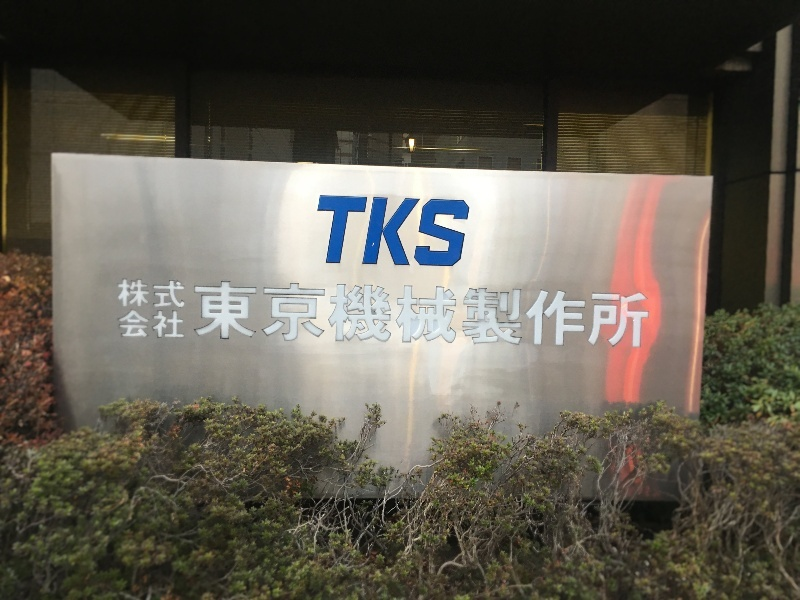text: (321, 195, 336, 268), (337, 195, 352, 268), (353, 195, 368, 268), (369, 195, 384, 268), (385, 195, 400, 268), (401, 195, 416, 268), (417, 195, 432, 268), (433, 195, 448, 268), (449, 195, 464, 268), (209, 280, 224, 349), (225, 280, 240, 349), (241, 280, 256, 349), (257, 280, 272, 349), (273, 280, 288, 349), (289, 280, 304, 349), (305, 280, 320, 349), (321, 280, 336, 349), (337, 280, 352, 349), (353, 280, 368, 349), (369, 280, 384, 349), (385, 280, 400, 349), (401, 280, 416, 349), (417, 280, 432, 349), (433, 280, 448, 349), (449, 280, 464, 349), (465, 280, 480, 349), (481, 280, 496, 349), (497, 280, 512, 349), (513, 280, 528, 349), (529, 280, 544, 349), (545, 280, 560, 349), (561, 280, 576, 349), (577, 280, 592, 349), (593, 280, 608, 349), (609, 280, 624, 349), (625, 280, 640, 349), (195, 280, 208, 349), (641, 280, 649, 349), (129, 279, 144, 309), (145, 279, 160, 309), (161, 279, 176, 309), (465, 195, 471, 268), (129, 310, 144, 337), (145, 310, 160, 337), (161, 310, 176, 337), (118, 279, 128, 309), (119, 310, 128, 337), (177, 279, 185, 309), (177, 310, 184, 337)
